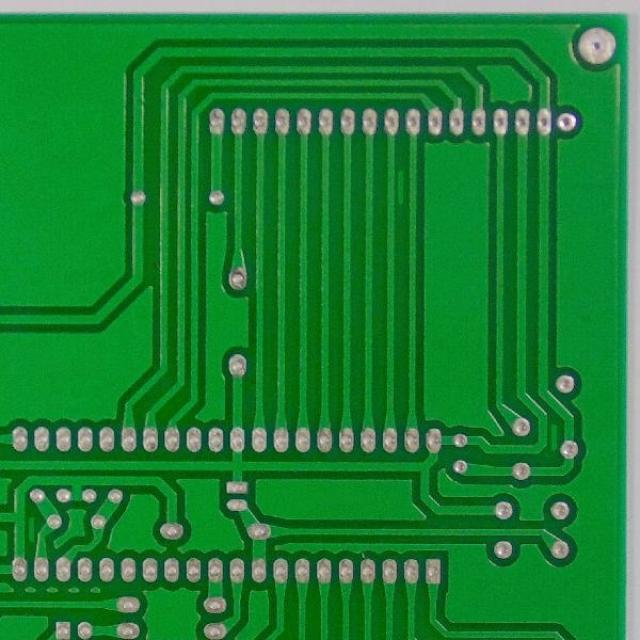spurious_copper: (392, 164, 410, 206), (545, 420, 563, 456)
